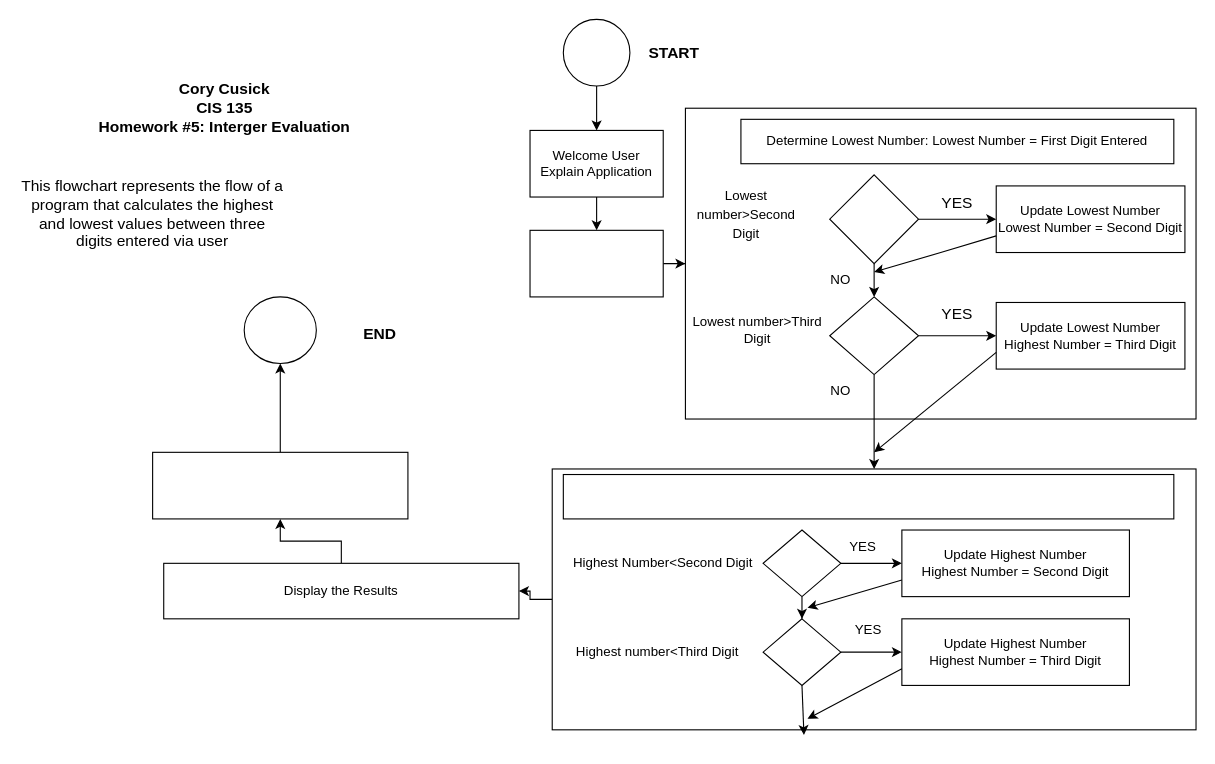
This 1215x764 diagram has some shape labels left out. Each missing label, with the centre of its shape:
"Ask User to enter three (interger) number" belongs at point (596, 263).
"Determine Highest Number: Highest Number = First Digit Entered" belongs at point (868, 496).
"Thank the User" belongs at point (280, 485).
